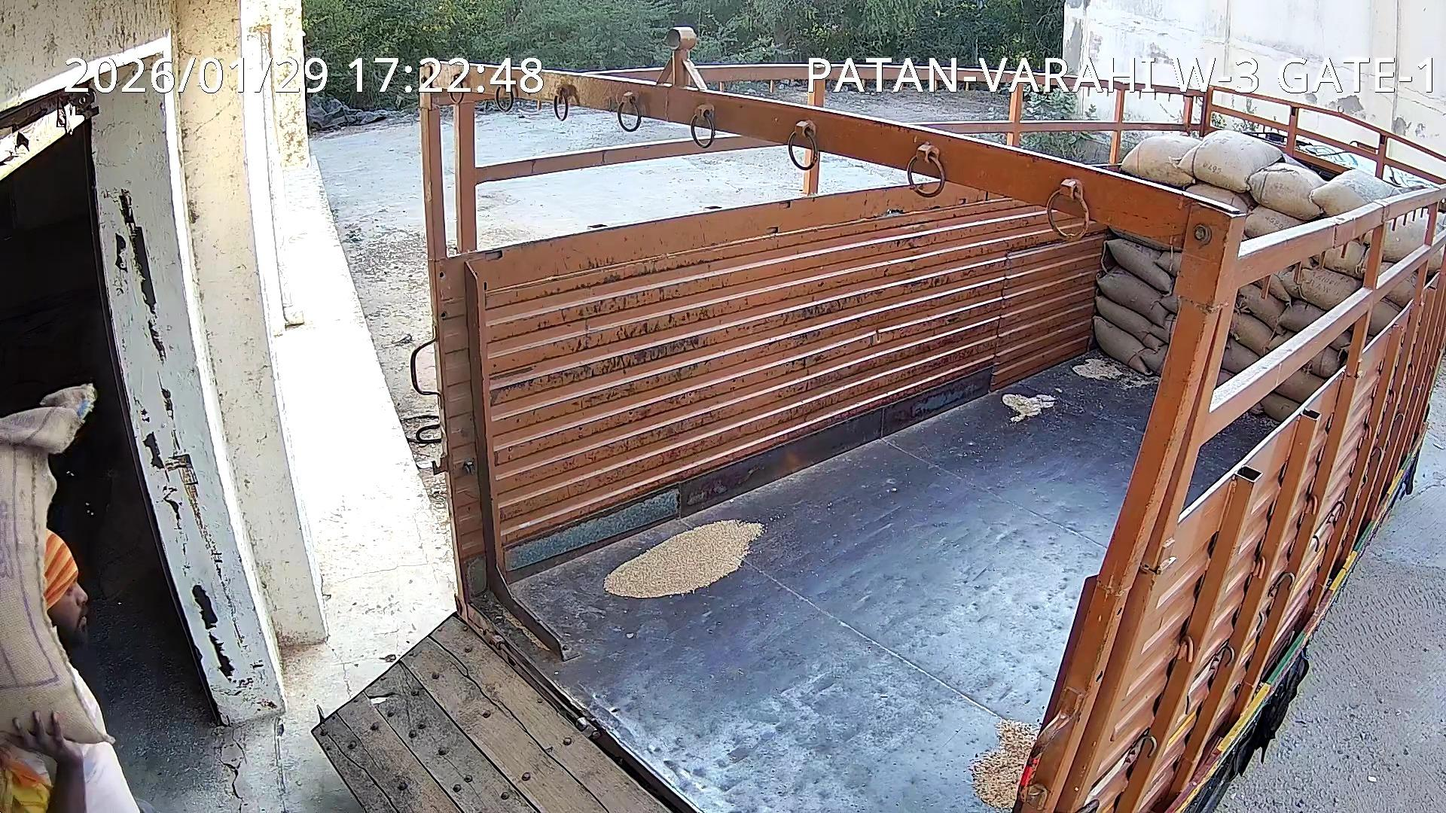Sack: (0, 384, 108, 741)
